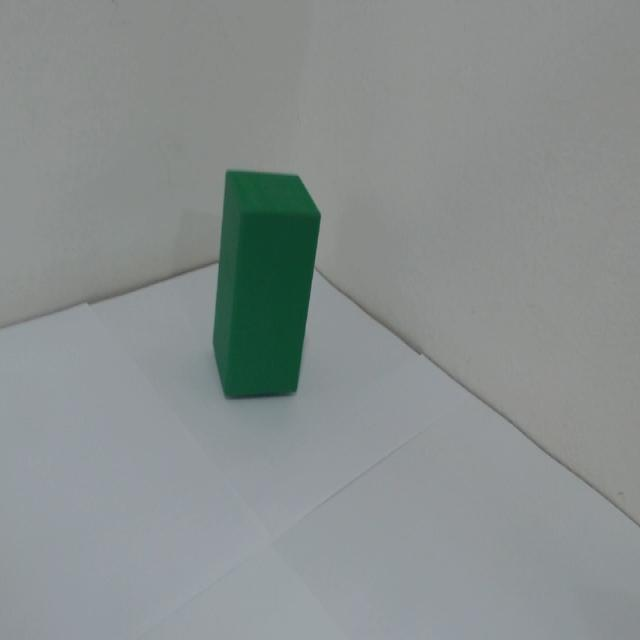cube: (177, 138, 418, 541)
